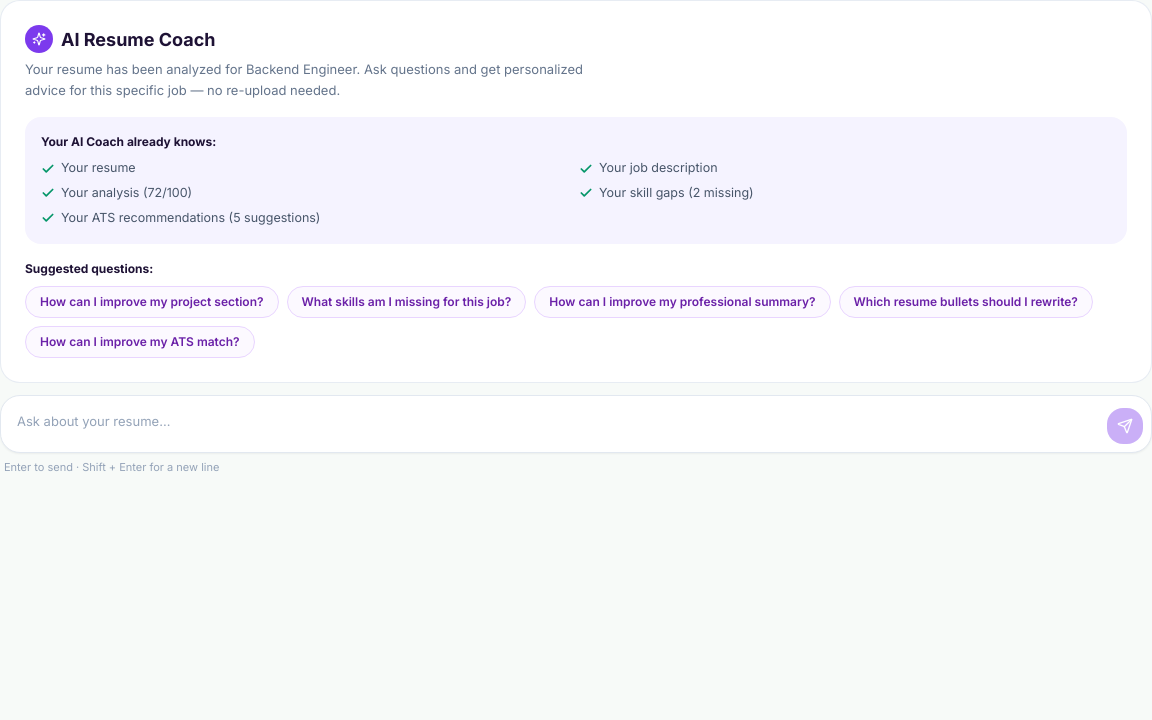
Test: AICoach › shows an error with Try Again and retries the last question
Type "Why is my score low?" into the text box labelled "Ask about your resume" at (554, 424), box [9,404,1099,444]
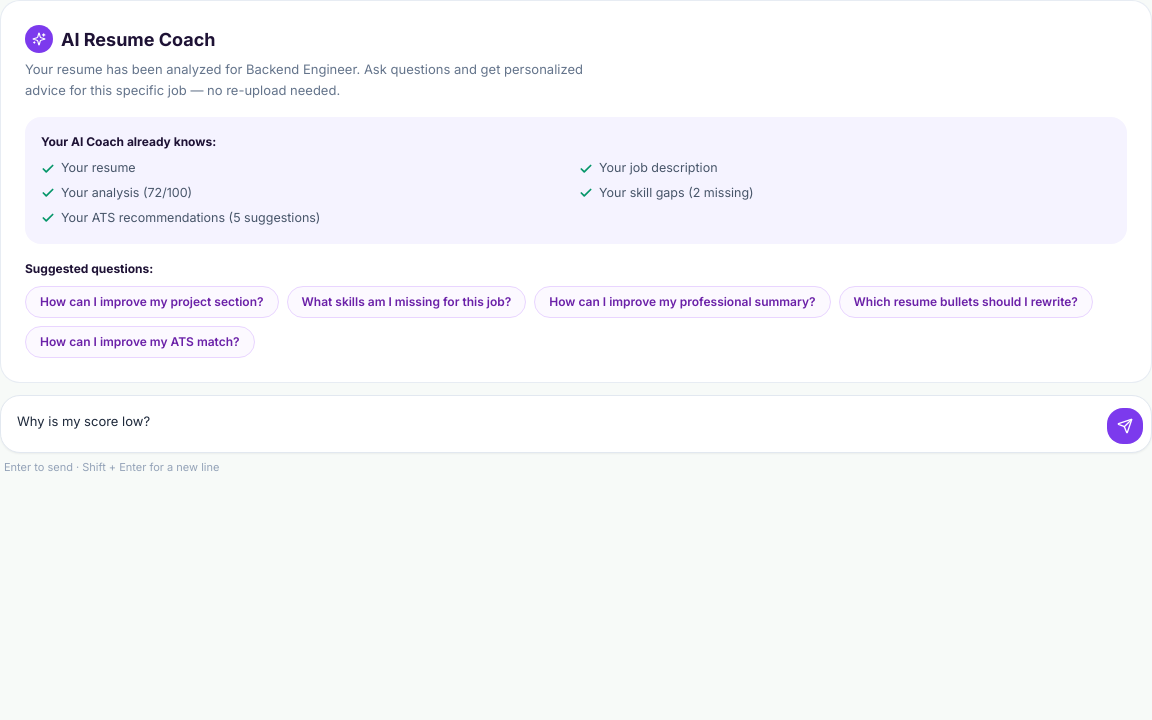
Click the button named "Send message" at (1125, 426), box [1107,408,1143,444]
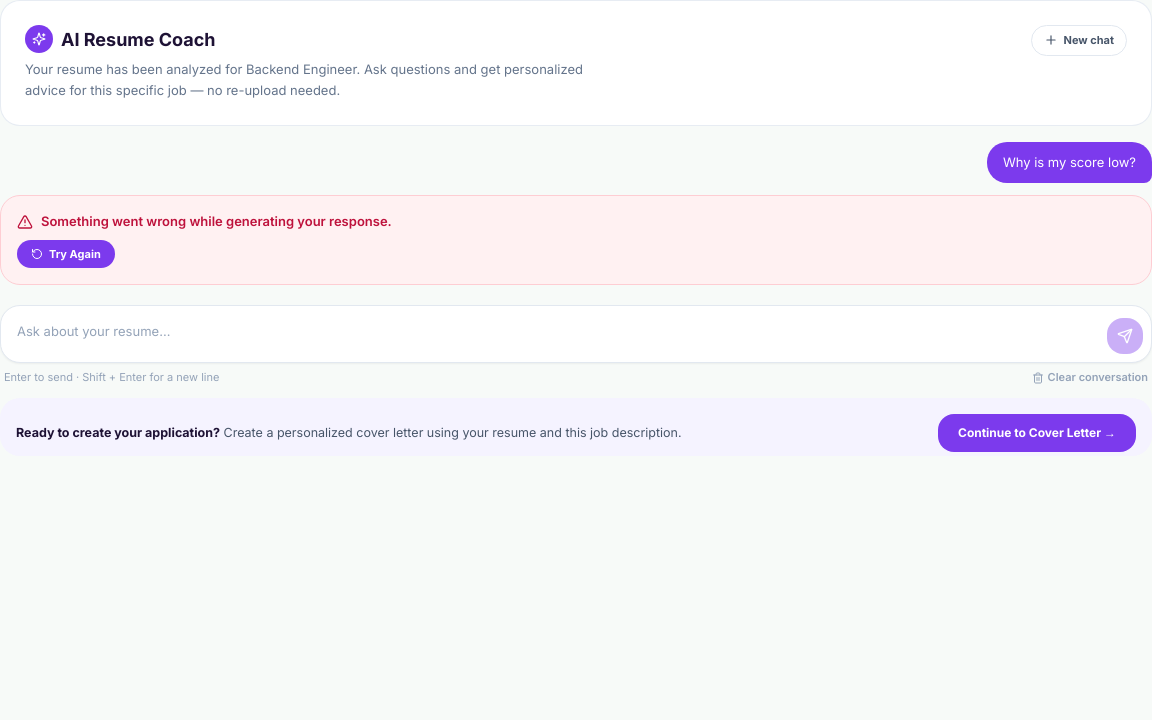
Expected: the text "Something went wrong while generating your response." is shown, [17,213,392,230]
Click the button "Try Again" at (66, 254), box [17,240,115,268]
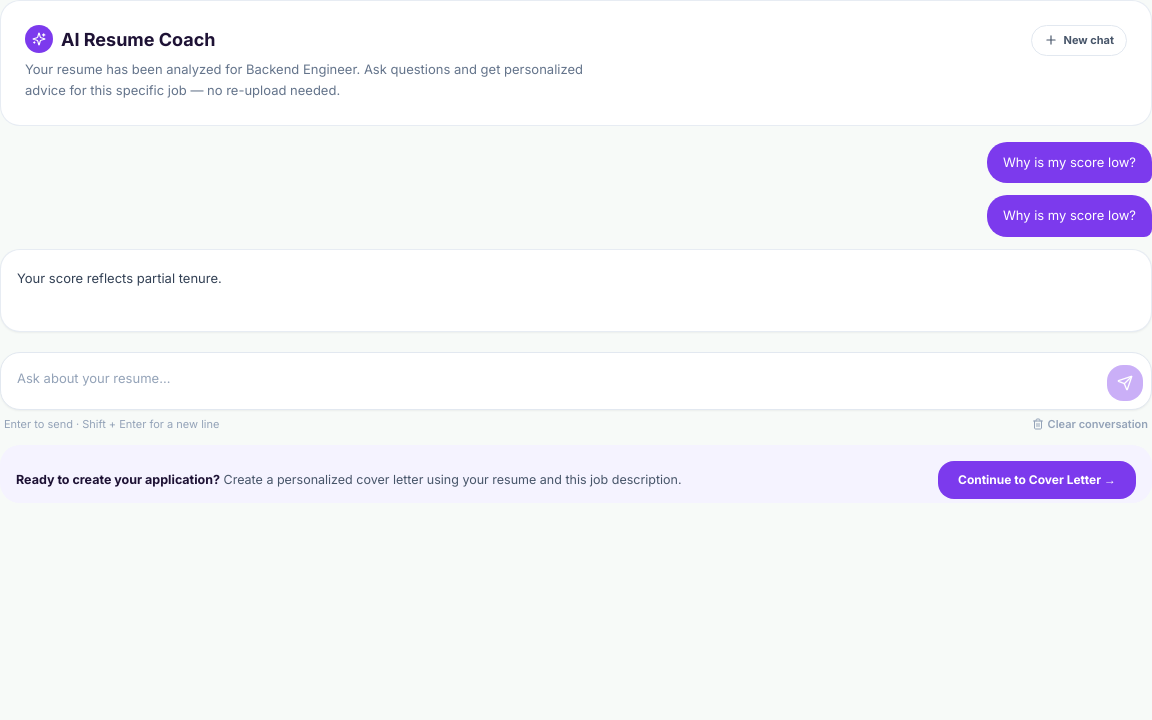
Expected: the text "Your score reflects partial tenure." is shown, [17,270,222,286]
